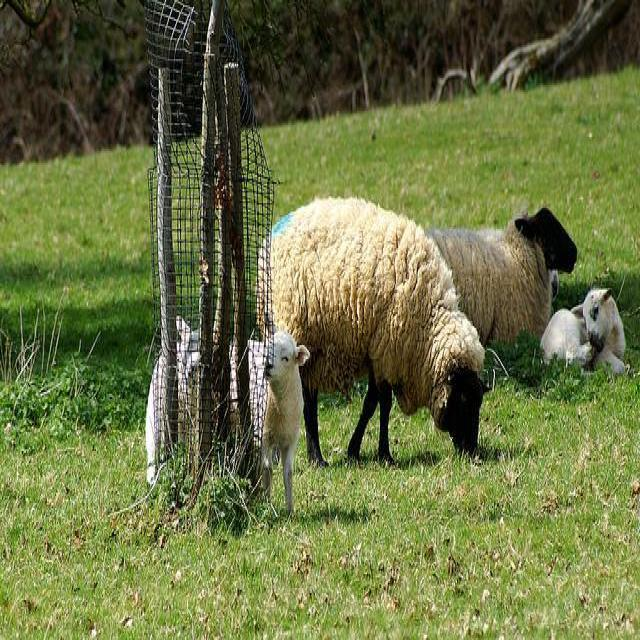Sheep: (255, 196, 486, 470), (424, 203, 578, 350), (177, 316, 270, 444), (257, 338, 309, 512), (540, 288, 627, 376)
